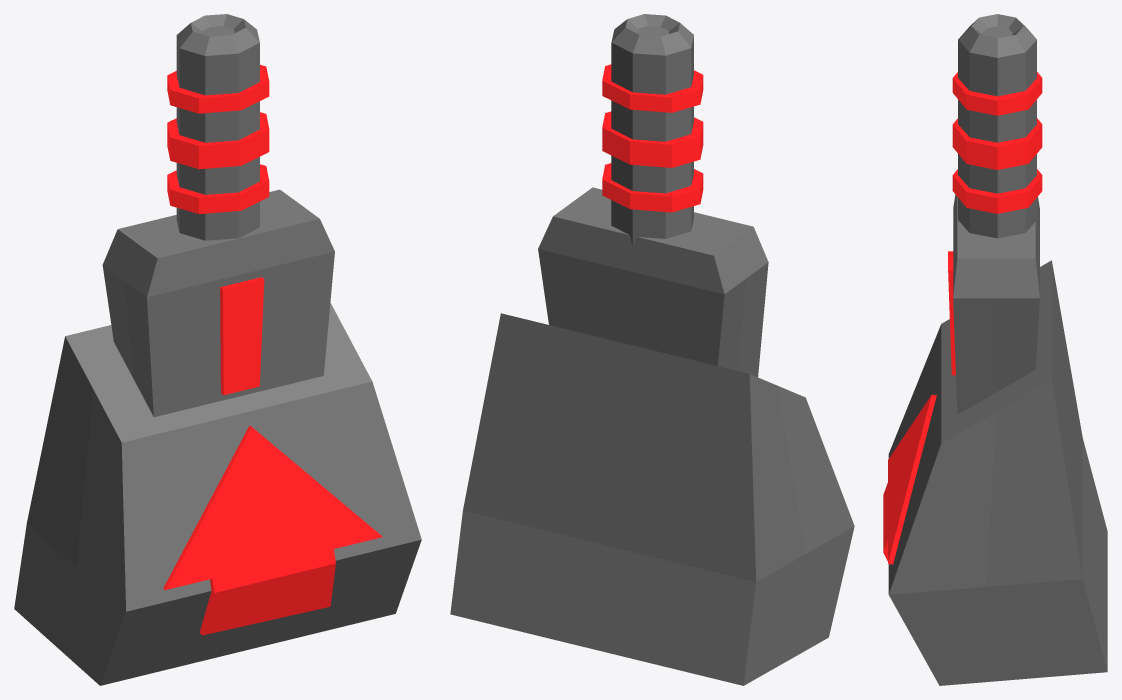
Rendered from cannon3 v2.fbx.
3 renders of one model, left to right at view 1: azimuth 30°, elevation 25°; view 2: azimuth 150°, elevation 25°; view 3: azimuth 270°, elevation 25°, orthographic. The views are drawn at different scales.
Visible parts, largest first — view 1: Turret_5.003; view 2: Turret_5.003; view 3: Turret_5.003.
Boxes of the visible parts, box(x1,y1,x2,y2) form: Turret_5.003: box(14, 14, 421, 685); Turret_5.003: box(450, 14, 854, 685); Turret_5.003: box(883, 14, 1107, 685).
Bounding box in the file's own units: 1222 × 2382 × 821.
